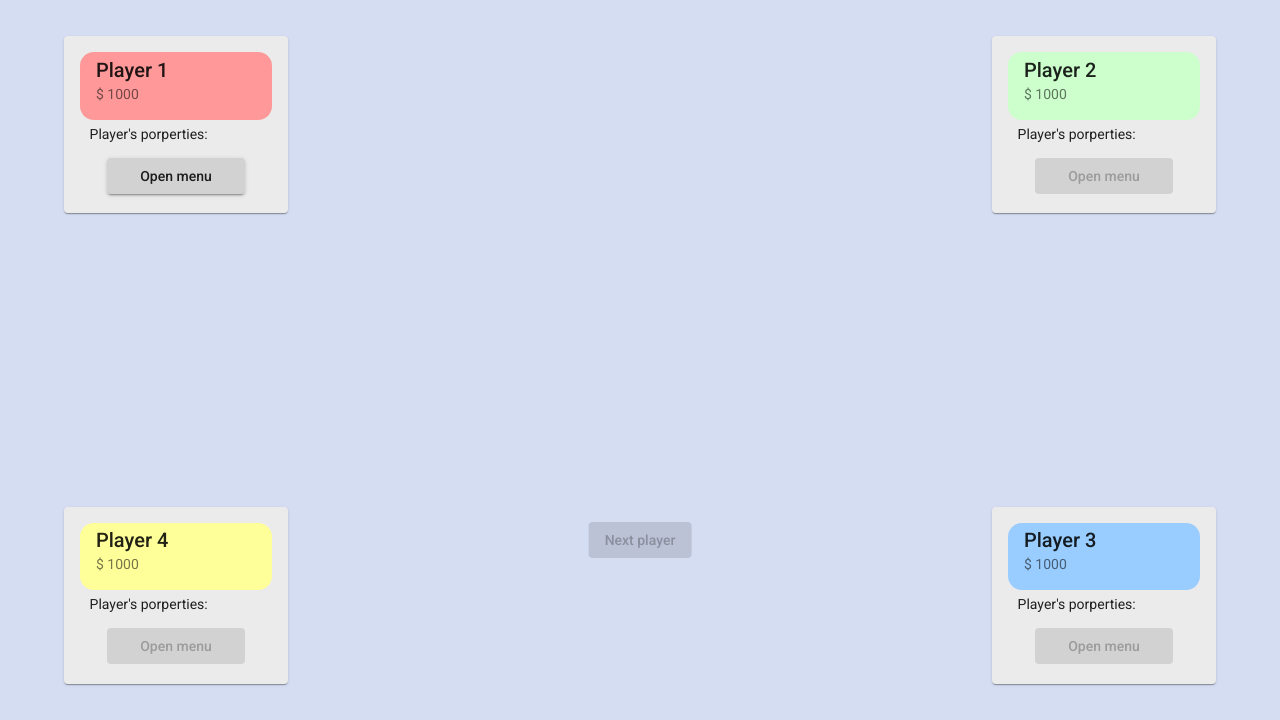
Test case: Testing game table and dice throwing › Test dice rolling
Click the button "Open menu" below "Player 1".
click(176, 176)  # box [107,158,245,194]
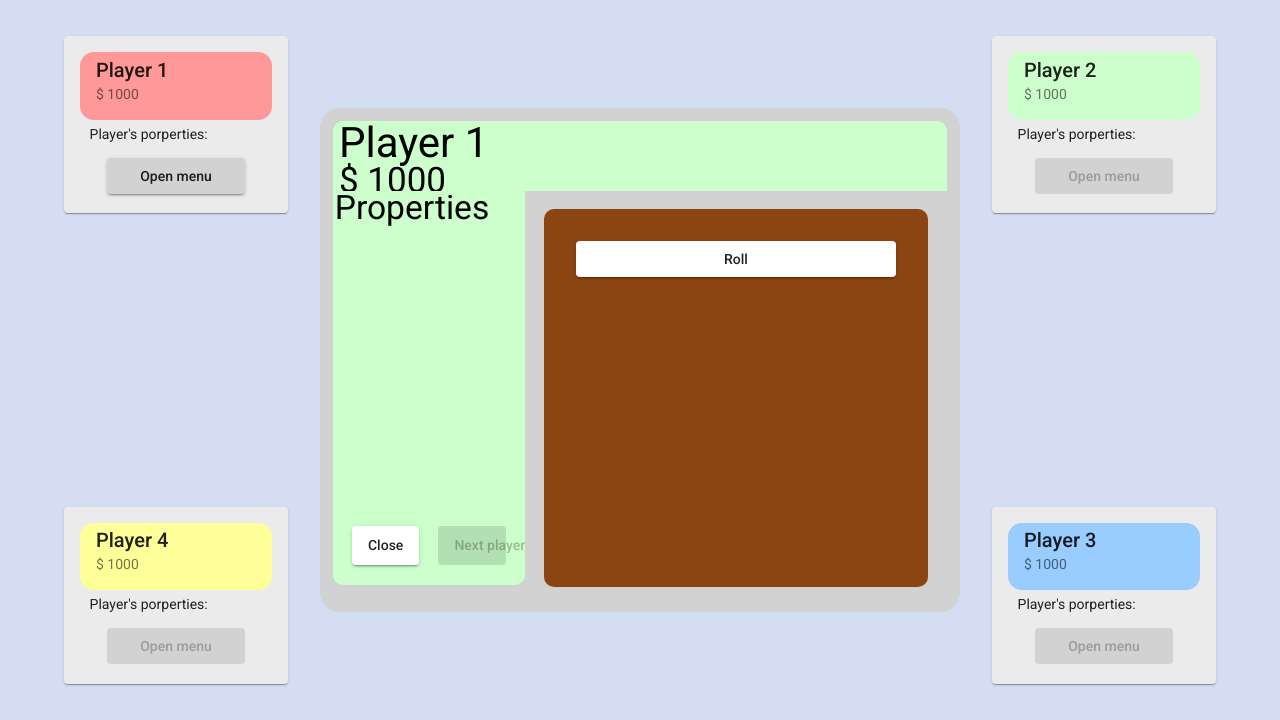
Click the button "Roll".
click(736, 259)  # box [576,241,896,277]
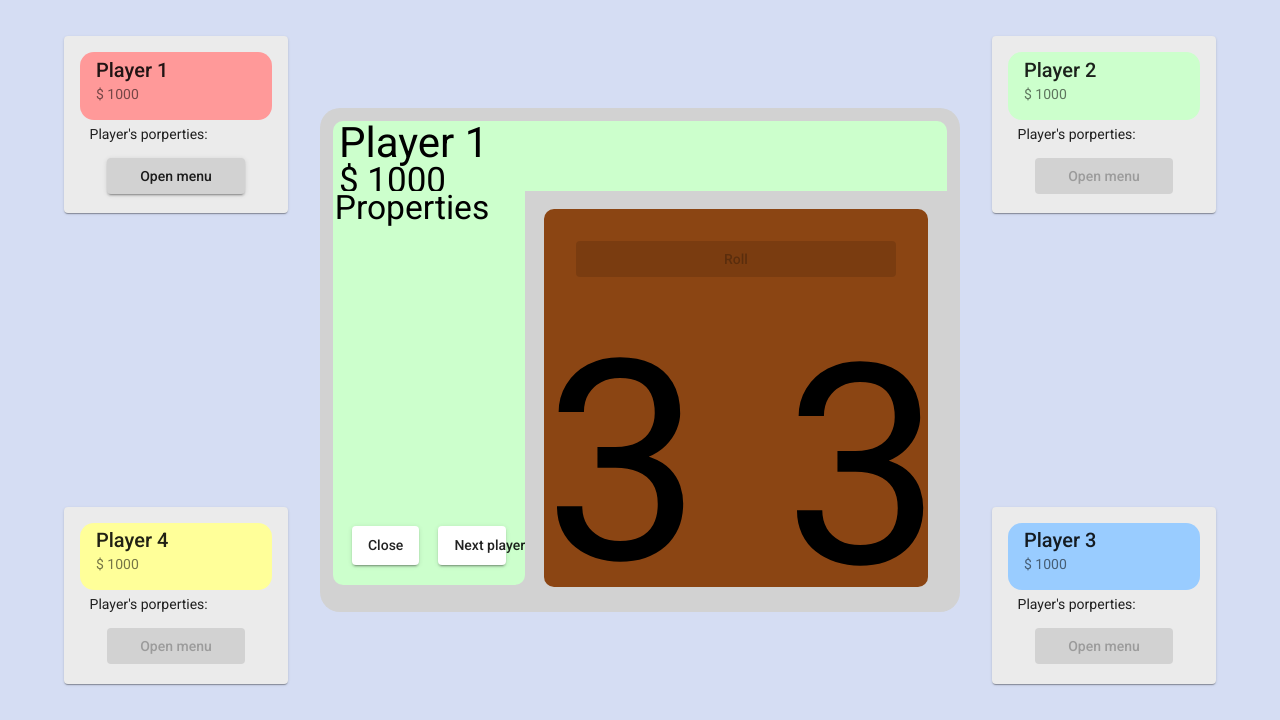
Now the button "Roll" is disabled, box [576,241,896,277]
Now the text with class "result" is shown, box [544,453,656,473]
Now the text with class "result2" is shown, box [784,457,928,477]
